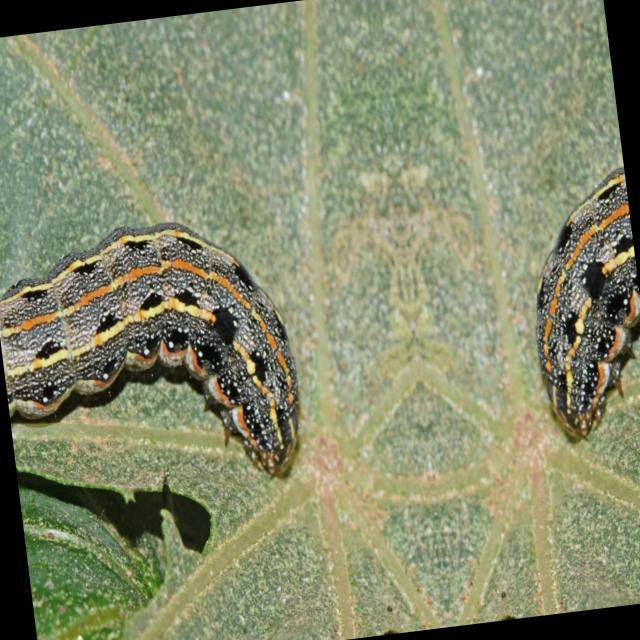Armyworm: (1, 170, 323, 542), (504, 143, 640, 470)
